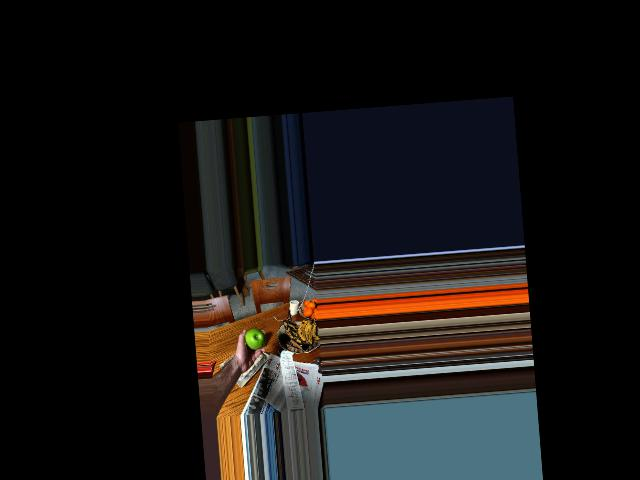apple: (246, 325, 267, 355)
